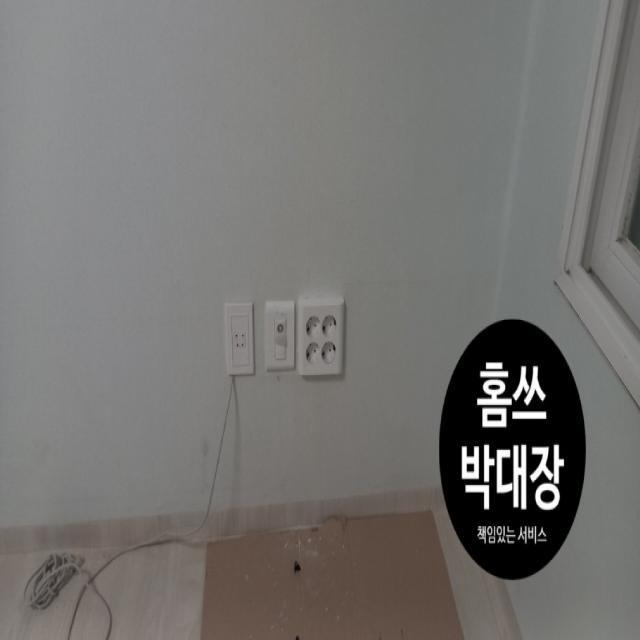typeb: (295, 292, 346, 393)
